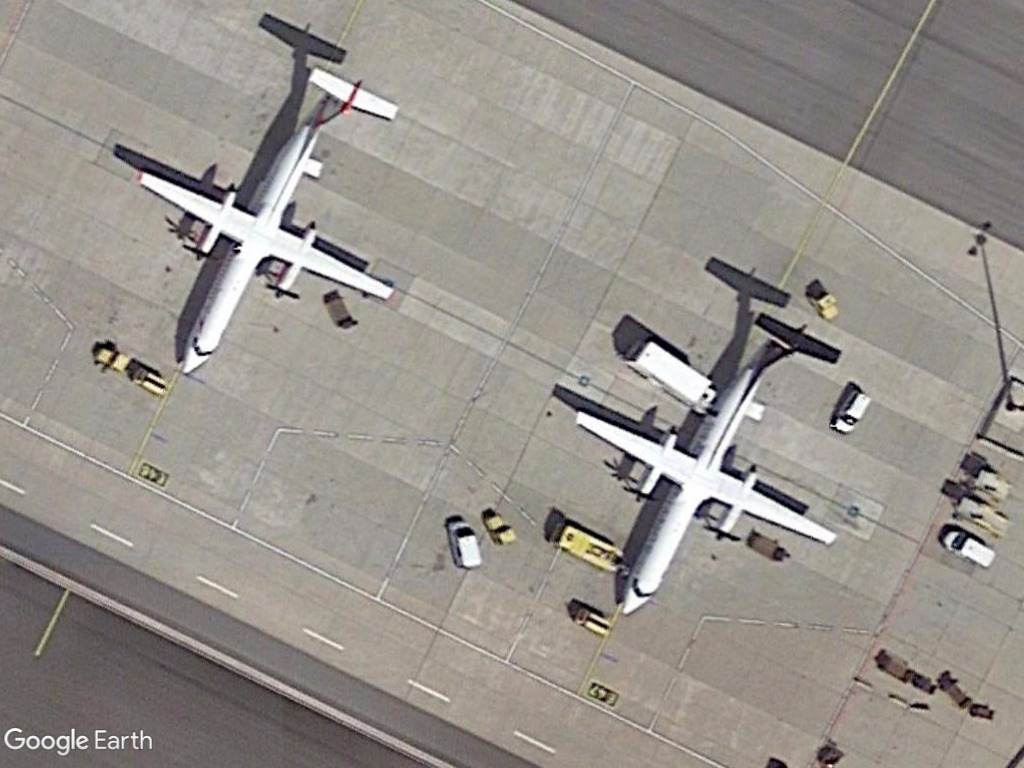propeller: (563, 310, 843, 620), (131, 62, 403, 380)
van: (937, 527, 999, 570), (829, 389, 875, 437), (446, 516, 485, 570)
